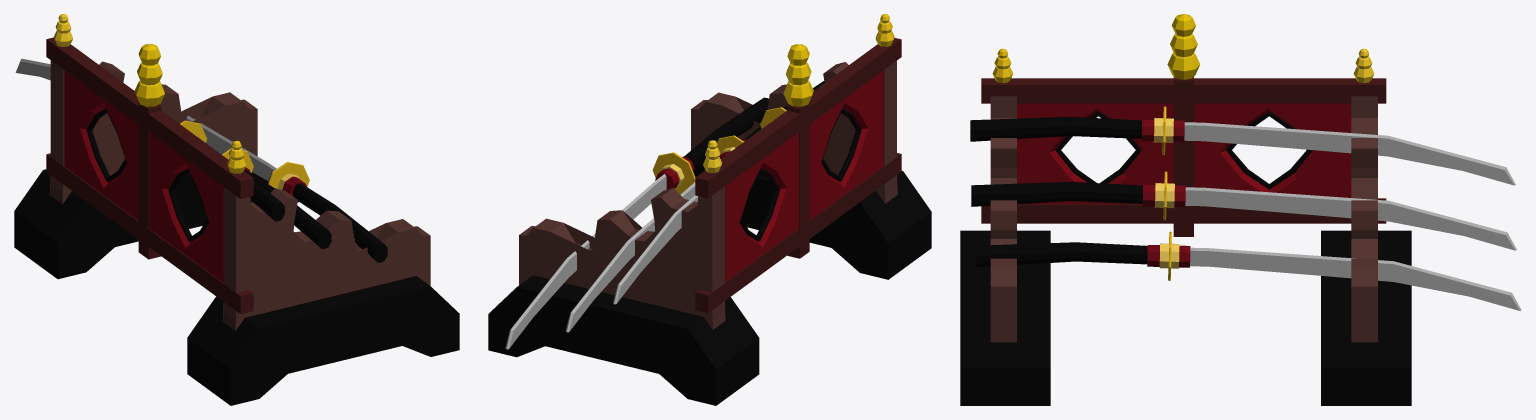
File: Porte Katana.fbx
3 renders of one model, left to right at view 1: azimuth 30°, elevation 25°; view 2: azimuth 150°, elevation 25°; view 3: azimuth 270°, elevation 25°, orthographic. The views are drawn at different scales.
Parts seen in each view (by area): view 1: Plane.001; view 2: Plane.001; view 3: Plane.001.
Part boxes in pixels (box(x1,y1,x2,y2)): Plane.001: box(14, 14, 459, 405); Plane.001: box(488, 14, 931, 405); Plane.001: box(960, 14, 1521, 405).
Size of the model in its own units: 108 by 125 by 221.
